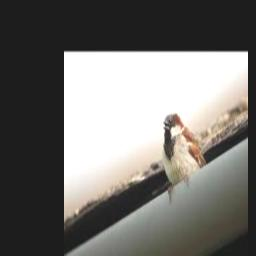Sparrow: (162, 114, 207, 199)
